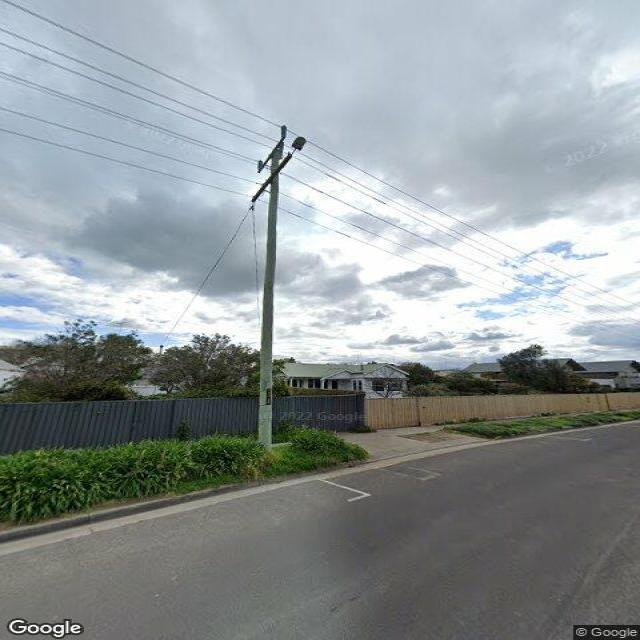HV-transmission: (257, 125, 286, 174)
crossarm: (251, 152, 293, 203), (260, 138, 285, 172)
streetlight: (290, 136, 308, 156)
timber-pole: (258, 146, 274, 447)
